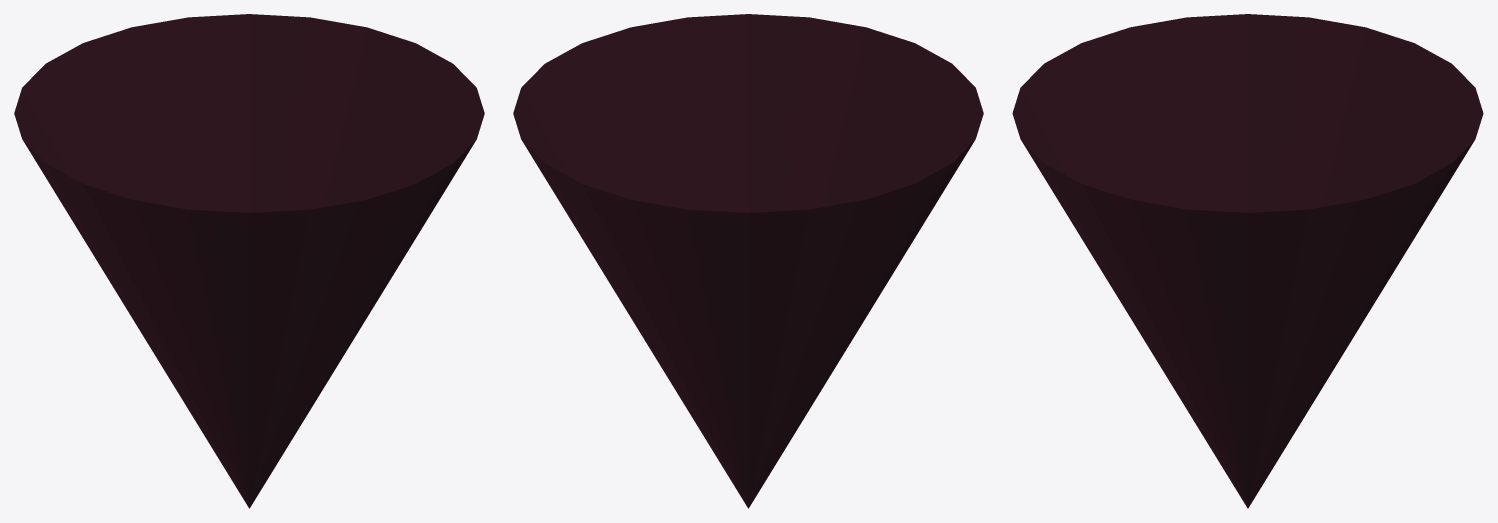
File: SM_漏斗滤纸液体_002.fbx
The picture shows the model from 3 angles, left to right: view 1: azimuth 30°, elevation 25°; view 2: azimuth 150°, elevation 25°; view 3: azimuth 270°, elevation 25°; orthographic projection.
Parts seen in each view (by area): view 1: SM_漏斗滤纸液体_002; view 2: SM_漏斗滤纸液体_002; view 3: SM_漏斗滤纸液体_002.
Part boxes in pixels (left/top/right/bottom): SM_漏斗滤纸液体_002: left=14, top=14, right=484, bottom=508; SM_漏斗滤纸液体_002: left=513, top=14, right=983, bottom=508; SM_漏斗滤纸液体_002: left=1012, top=14, right=1483, bottom=508.
Bounding box in the file's own units: 0.0352 × 0.0326 × 0.0352.
